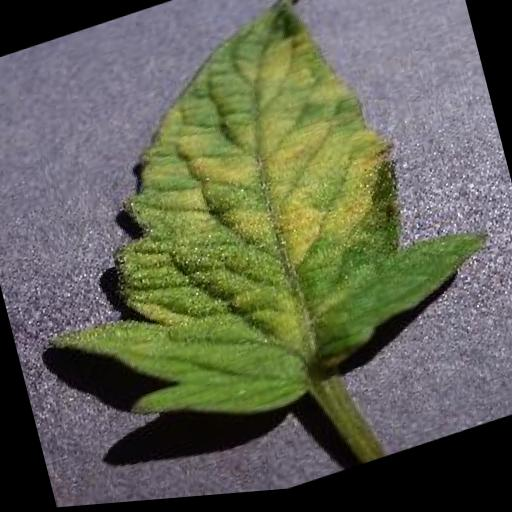Leaf Mold: (0, 0, 512, 482)
